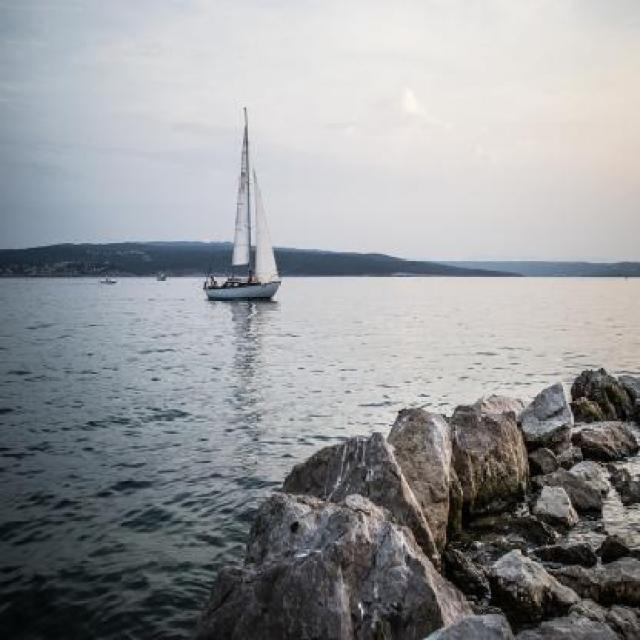ship: (204, 107, 281, 304)
